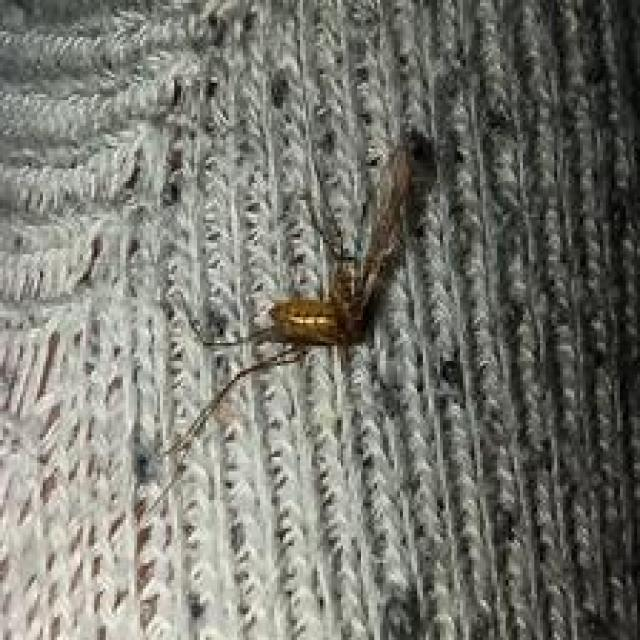Culex: (140, 127, 446, 519)
